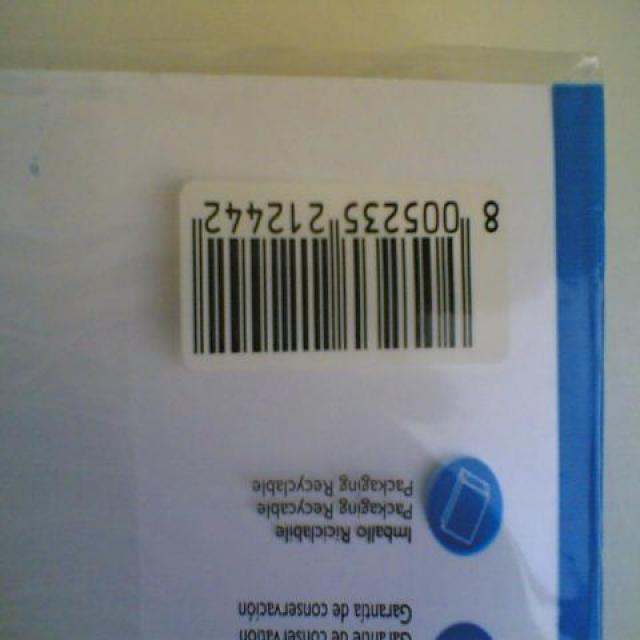Barcode: (179, 176, 513, 365)
